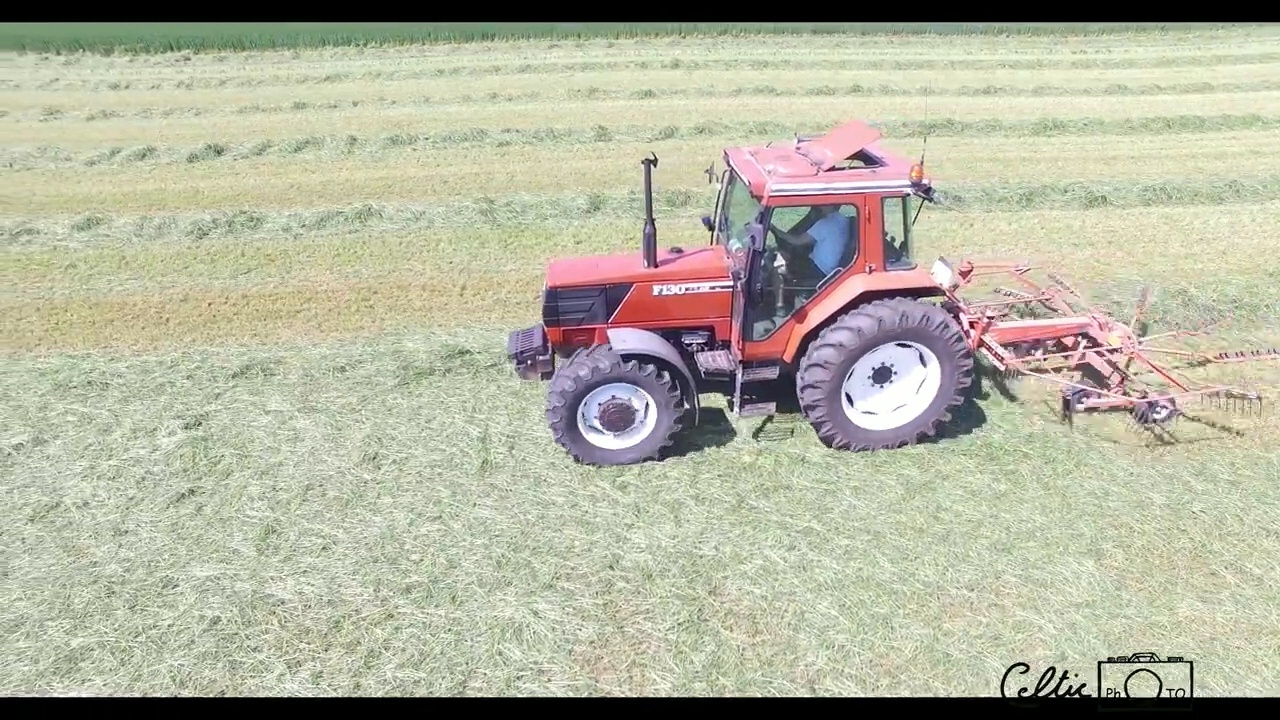traktor: (502, 122, 973, 474)
